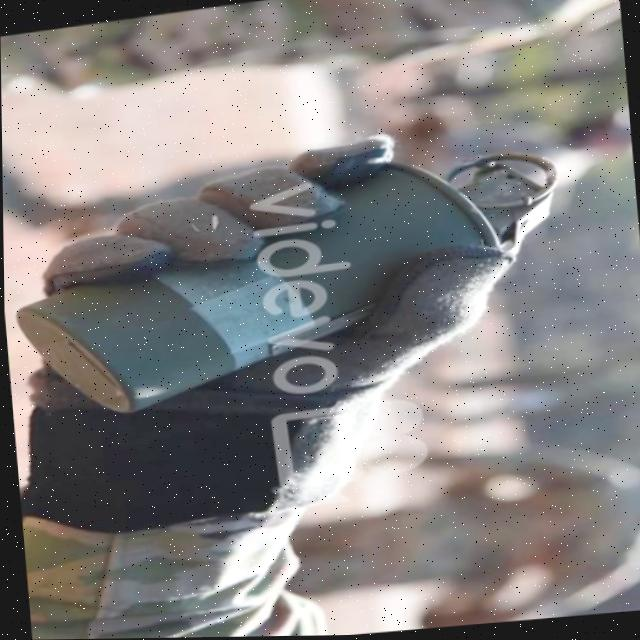grenade: (2, 131, 583, 427)
